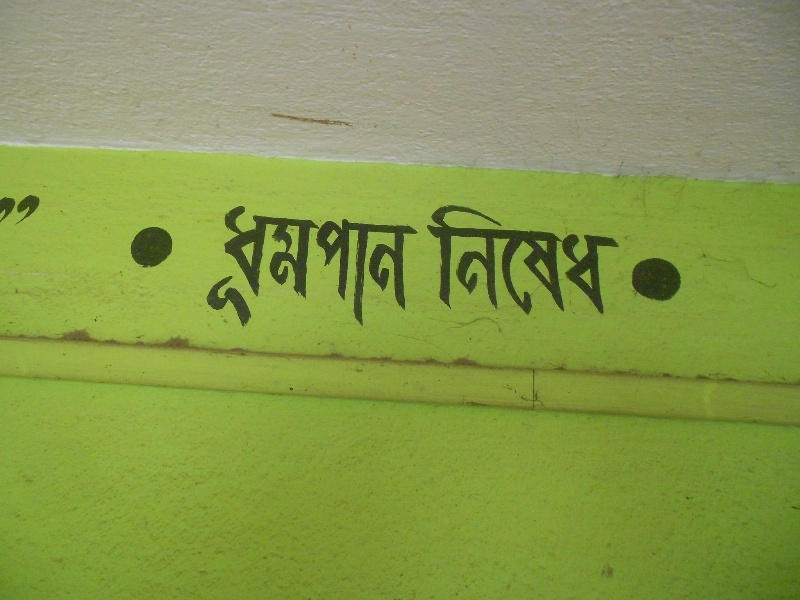text: (241, 202, 256, 337), (257, 202, 272, 337), (273, 202, 288, 337), (289, 202, 304, 337), (305, 202, 320, 337), (321, 202, 336, 337), (337, 202, 352, 337), (353, 202, 368, 337), (369, 202, 384, 337), (385, 202, 400, 337), (401, 202, 416, 337), (433, 202, 448, 324), (449, 202, 464, 324), (465, 202, 480, 324), (481, 202, 496, 324), (497, 202, 512, 324), (513, 202, 528, 324), (529, 202, 544, 324), (545, 202, 560, 324), (561, 202, 576, 324), (577, 202, 592, 324), (593, 202, 608, 324), (609, 202, 624, 324), (230, 202, 240, 337), (641, 251, 656, 301), (657, 251, 672, 301), (426, 202, 432, 324), (129, 221, 144, 269), (145, 221, 160, 269), (17, 187, 32, 233), (161, 221, 175, 269), (2, 187, 16, 233), (673, 251, 683, 301), (33, 187, 43, 233), (631, 251, 640, 301), (417, 202, 420, 337), (625, 202, 628, 324), (124, 221, 128, 269)
